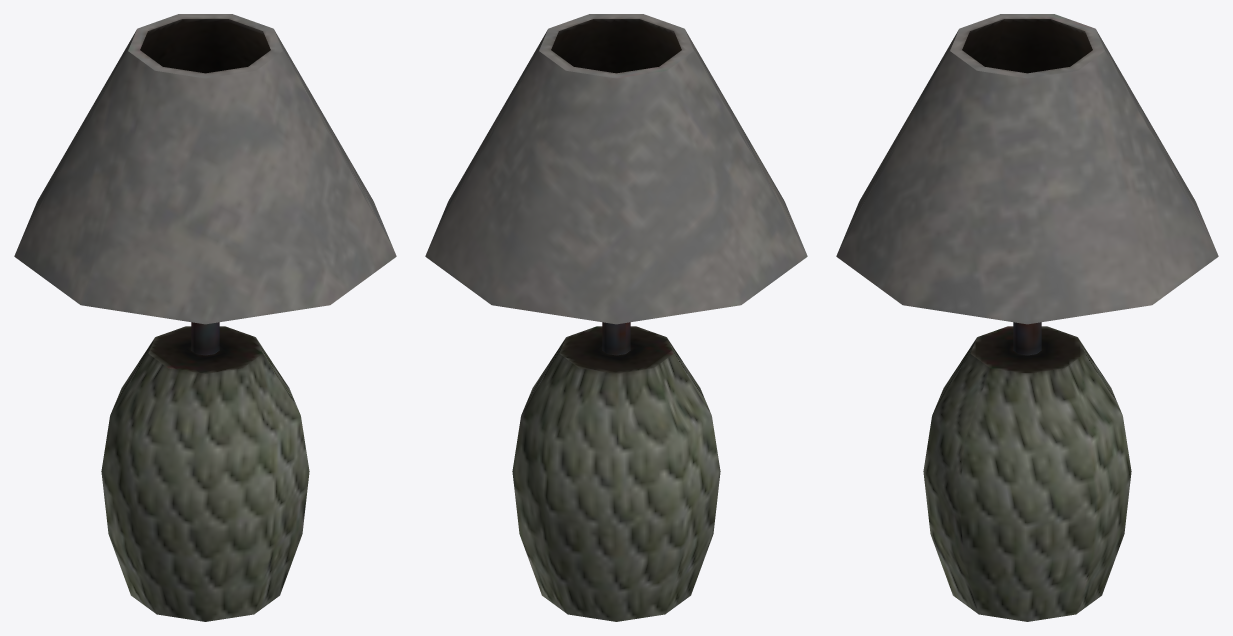
Rendered from Lamp_02.FBX.
3 views of the same model, side by side, from view 1: azimuth 30°, elevation 25°; view 2: azimuth 150°, elevation 25°; view 3: azimuth 270°, elevation 25° (orthographic).
Parts seen in each view (by area): view 1: Lamp_02; view 2: Lamp_02; view 3: Lamp_02.
Part boxes in pixels (x1=…): Lamp_02: x1=14, y1=14, x2=396, y2=621; Lamp_02: x1=425, y1=14, x2=807, y2=621; Lamp_02: x1=836, y1=14, x2=1218, y2=621.
Size of the model in its own units: 46.71 by 74.51 by 47.43.
